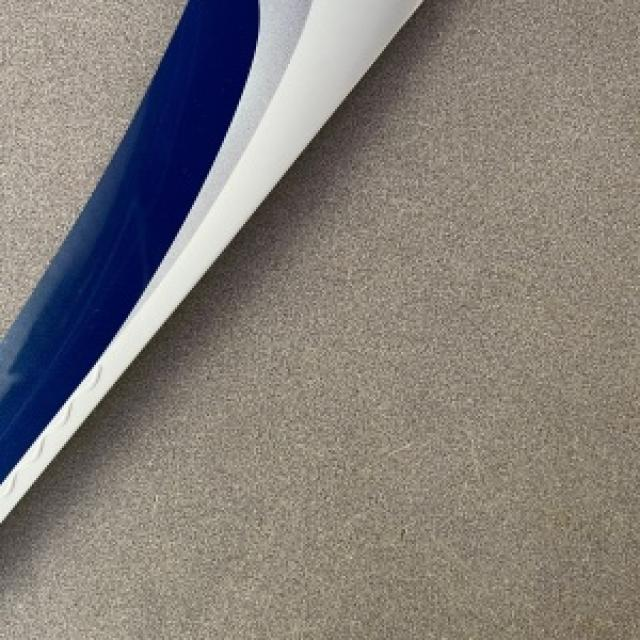healthy: (0, 0, 638, 638), (68, 0, 410, 429)
